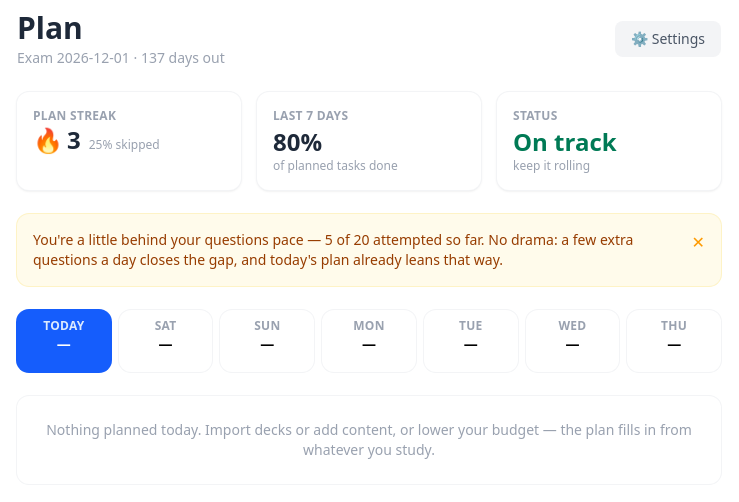
plan dashboard › the behind-pace nudge shows the coverage facts and dismisses
The width and height of the screenshot is (739, 502).
Expected: the text "behind your questions pace" is shown, [33,230,325,249]
Click the button named "Dismiss pace nudge": point(698, 242) [692,230,705,254]
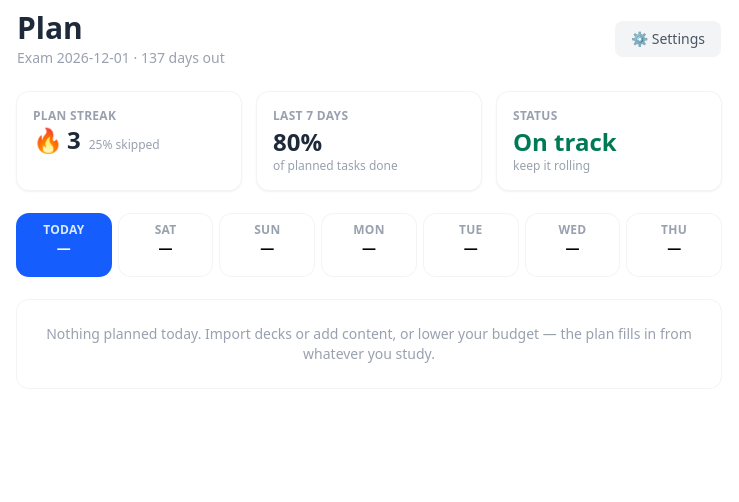
Expected: the text "behind your questions pace" is gone
